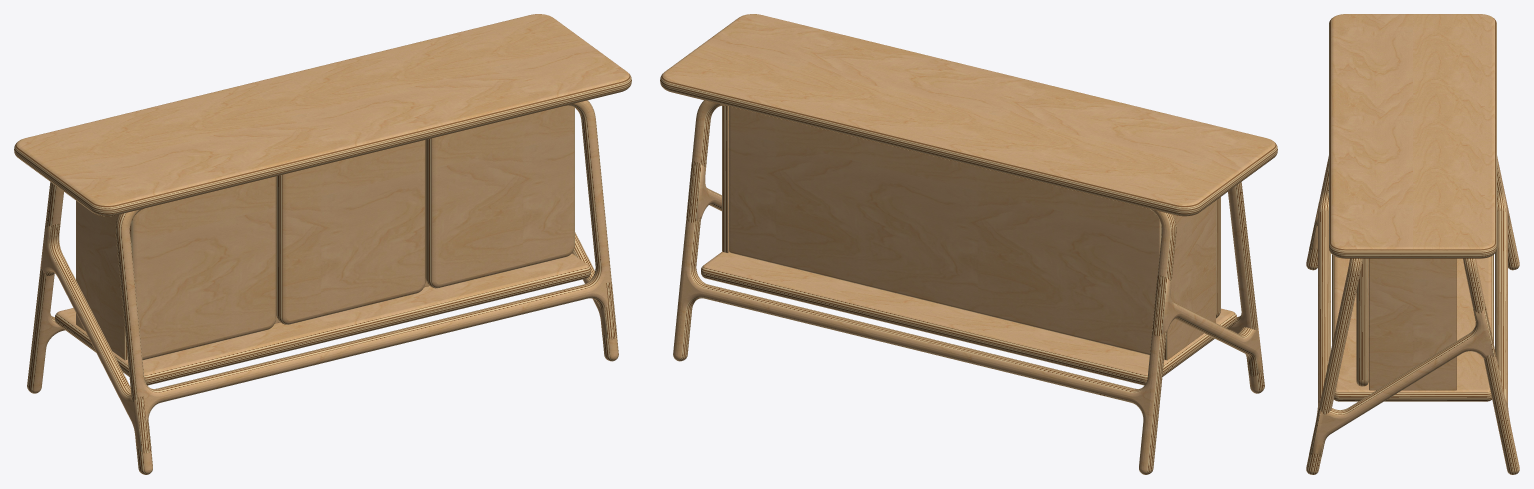
The model's file is credenza.glb.
The picture shows the model from 3 angles, left to right: view 1: azimuth 30°, elevation 25°; view 2: azimuth 150°, elevation 25°; view 3: azimuth 270°, elevation 25°; orthographic projection. The views are drawn at different scales.
Parts seen in each view (by area): view 1: Credenza: top_upper, Credenza: front_2, Credenza: front_3, Credenza: front_1, Credenza: front_frame, Credenza: cabinet_floor, Credenza: cabinet_side_L, Credenza: end_frame_L, Credenza: top_lower, Credenza: back_frame, Credenza: end_frame_R; view 2: Credenza: cabinet_back, Credenza: top_upper, Credenza: cabinet_floor, Credenza: back_frame, Credenza: cabinet_side_L, Credenza: end_frame_L, Credenza: top_lower, Credenza: front_frame, Credenza: end_frame_R, Credenza: cabinet_side_R; view 3: Credenza: top_upper, Credenza: cabinet_side_R, Credenza: cabinet_floor, Credenza: back_frame, Credenza: front_frame, Credenza: end_frame_R, Credenza: front_3, Credenza: top_lower.
Part boxes in pixels (box(x1,y1,x2,y2)): Credenza: top_upper: box(14, 14, 631, 211); Credenza: front_2: box(276, 140, 425, 324); Credenza: front_3: box(425, 105, 574, 288); Credenza: front_1: box(130, 176, 275, 360); Credenza: front_frame: box(115, 100, 618, 474); Credenza: cabinet_floor: box(55, 253, 590, 385); Credenza: cabinet_side_L: box(76, 201, 127, 360); Credenza: end_frame_L: box(40, 223, 151, 453); Credenza: top_lower: box(14, 81, 631, 216); Credenza: back_frame: box(27, 182, 64, 393); Credenza: end_frame_R: box(572, 232, 617, 339); Credenza: cabinet_back: box(729, 106, 1161, 354); Credenza: top_upper: box(660, 14, 1277, 211); Credenza: cabinet_floor: box(701, 252, 1236, 385); Credenza: back_frame: box(673, 100, 1176, 474); Credenza: cabinet_side_L: box(1161, 201, 1215, 360); Credenza: end_frame_L: box(1152, 275, 1262, 376); Credenza: top_lower: box(660, 81, 1277, 216); Credenza: front_frame: box(1228, 182, 1264, 393); Credenza: end_frame_R: box(686, 161, 721, 222); Credenza: cabinet_side_R: box(722, 105, 729, 252); Credenza: top_upper: box(1329, 14, 1496, 254); Credenza: cabinet_side_R: box(1369, 258, 1456, 390); Credenza: cabinet_floor: box(1332, 255, 1493, 401); Credenza: back_frame: box(1463, 156, 1519, 474); Credenza: front_frame: box(1306, 156, 1362, 474); Credenza: end_frame_R: box(1309, 305, 1496, 456); Credenza: front_3: box(1356, 258, 1368, 386); Credenza: top_lower: box(1329, 249, 1496, 258).
Bounding box in the file's own units: 1.6 × 0.7605 × 0.6097.
Materials: 2 (2 with a texture image).
